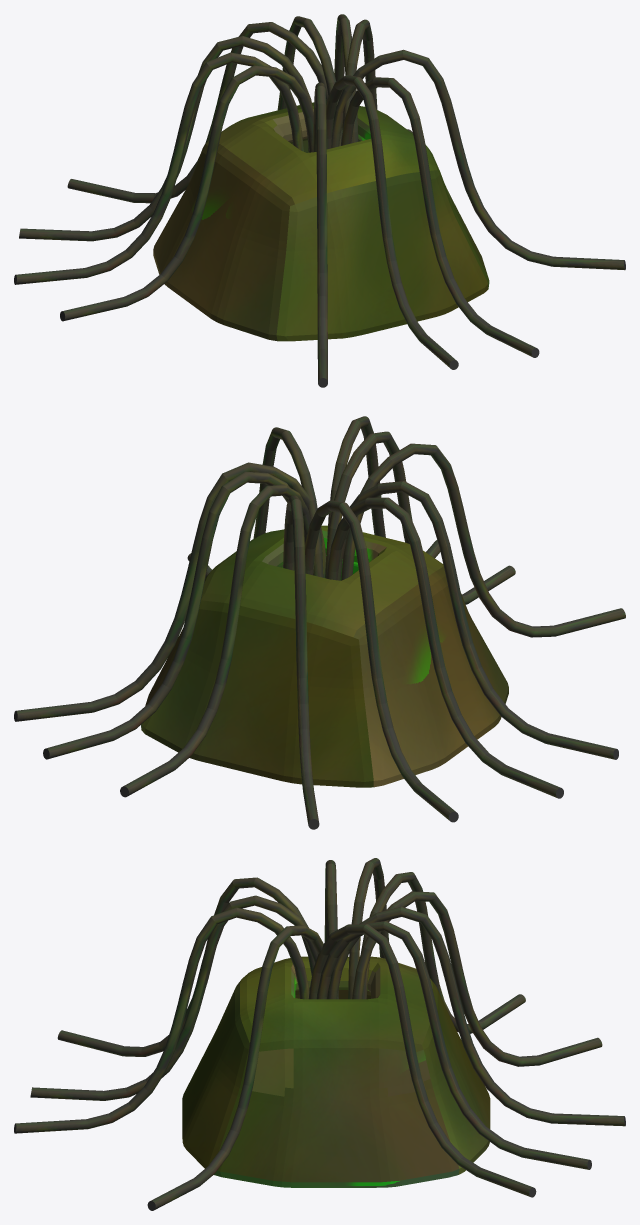
The model's file is carip.fbx.
The picture shows the model from 3 angles, top to bottom: view 1: azimuth 30°, elevation 25°; view 2: azimuth 150°, elevation 25°; view 3: azimuth 270°, elevation 25°; orthographic projection. The views are drawn at different scales.
Visible parts, largest first — view 1: Cube.041, Cylinder.012, Cylinder.018, Cylinder.011, Cylinder.021, Cylinder.019, Cylinder.020, Cylinder.013, Cylinder.014, Cylinder.015, Cylinder.017, Cylinder.016; view 2: Cube.041, Cylinder.012, Cylinder.011, Cylinder.020, Cylinder.013, Cylinder.016, Cylinder.017, Cylinder.015, Cylinder.014, Cylinder.019, Cylinder.018, Cylinder.021; view 3: Cube.041, Cylinder.021, Cylinder.016, Cylinder.015, Cylinder.017, Cylinder.014, Cylinder.018, Cylinder.019, Cylinder.020, Cylinder.013, Cylinder.012, Cylinder.011.
Part boxes in pixels (x1,y1,x2,y2): Cube.041: (153, 102, 489, 341); Cylinder.012: (14, 52, 303, 284); Cylinder.018: (331, 49, 625, 270); Cylinder.011: (60, 65, 313, 321); Cylinder.021: (341, 77, 539, 357); Cylinder.019: (326, 75, 458, 369); Cylinder.020: (313, 82, 327, 387); Cylinder.013: (19, 36, 313, 241); Cylinder.014: (67, 22, 328, 203); Cylinder.015: (277, 16, 342, 146); Cylinder.017: (343, 19, 412, 143); Cylinder.016: (334, 14, 358, 142); Cube.041: (141, 525, 508, 787); Cylinder.012: (326, 497, 563, 798); Cylinder.011: (337, 481, 618, 759); Cylinder.020: (341, 443, 625, 637); Cylinder.013: (305, 500, 458, 822); Cylinder.016: (43, 471, 289, 759); Cylinder.017: (14, 462, 325, 721); Cylinder.015: (120, 484, 315, 797); Cylinder.014: (283, 495, 319, 829); Cylinder.019: (325, 431, 515, 604); Cylinder.018: (187, 427, 323, 577); Cylinder.021: (327, 416, 440, 558); Cube.041: (182, 956, 490, 1187); Cylinder.021: (14, 907, 309, 1133); Cylinder.016: (316, 921, 591, 1169); Cylinder.015: (327, 906, 625, 1126); Cylinder.017: (308, 924, 536, 1197); Cylinder.014: (352, 891, 602, 1066); Cylinder.018: (147, 925, 330, 1210); Cylinder.019: (30, 895, 317, 1100); Cylinder.020: (57, 877, 314, 1056); Cylinder.013: (360, 872, 525, 1033); Cylinder.012: (348, 858, 389, 999); Cylinder.011: (324, 860, 338, 999).
Size of the model in its own units: 2155 by 975 by 2374.
2 materials, 2 textured.
